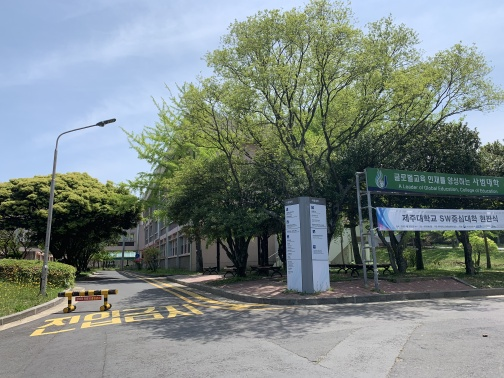College Of Education: (118, 106, 298, 287)
